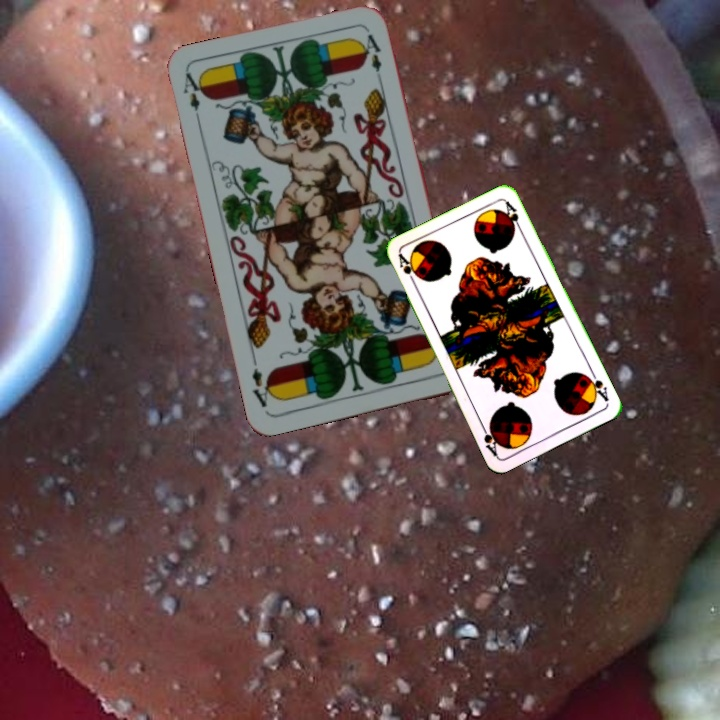EA: (179, 69, 207, 128)
SA: (581, 367, 612, 404), (394, 250, 420, 289)
